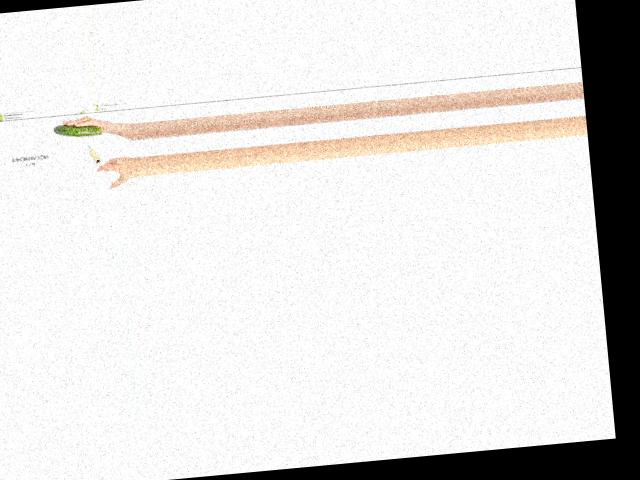cucumber: (53, 121, 102, 138)
